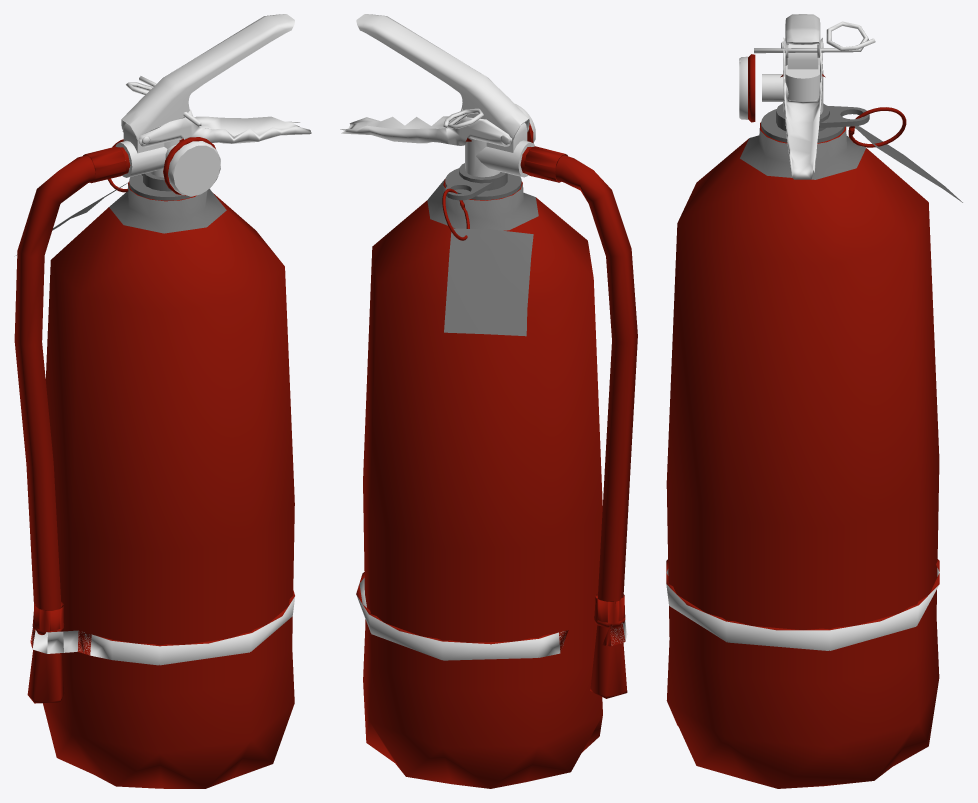
Rendered from Extintor.fbx.
3 renders of one model, left to right at view 1: azimuth 30°, elevation 25°; view 2: azimuth 150°, elevation 25°; view 3: azimuth 270°, elevation 25°, orthographic. The views are drawn at different scales.
Parts seen in each view (by area): view 1: korean_fire_extinguisher_01.001; view 2: korean_fire_extinguisher_01.001; view 3: korean_fire_extinguisher_01.001.
Boxes of the visible parts, x1=… form: korean_fire_extinguisher_01.001: x1=14, y1=14, x2=311, y2=788; korean_fire_extinguisher_01.001: x1=340, y1=14, x2=637, y2=788; korean_fire_extinguisher_01.001: x1=666, y1=14, x2=962, y2=788.
Size of the model in its own units: 159 by 368 by 129.
